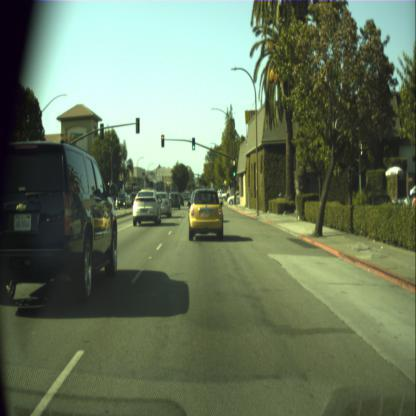Green: (232, 166, 236, 176), (192, 137, 194, 150)
Red: (161, 134, 164, 146)
